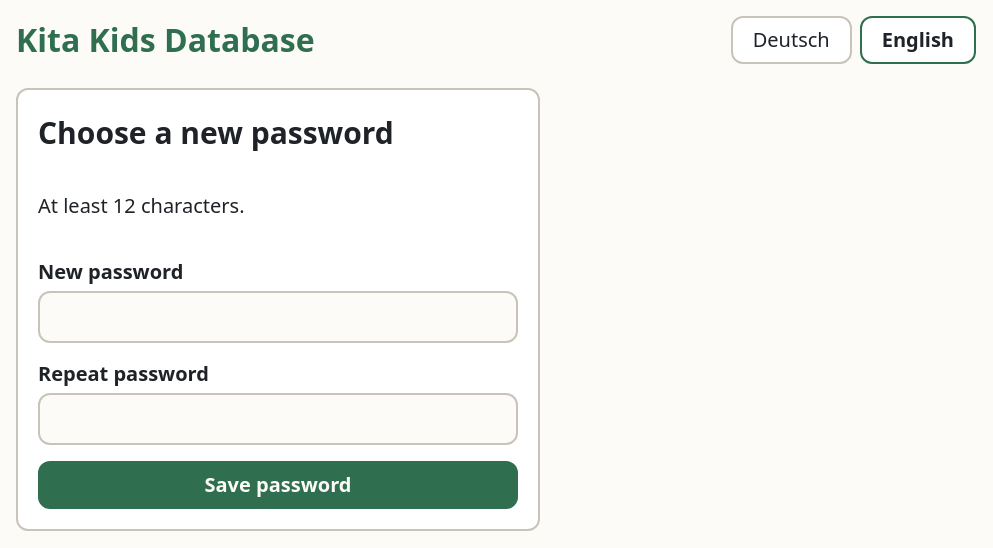
Test: forgotten password › saves the new password with the token from the link, without a login
This screenshot has width=993, height=548.
Type "a brand new password" into the password field labelled "New password" at (278, 317), box [38,291,518,343]
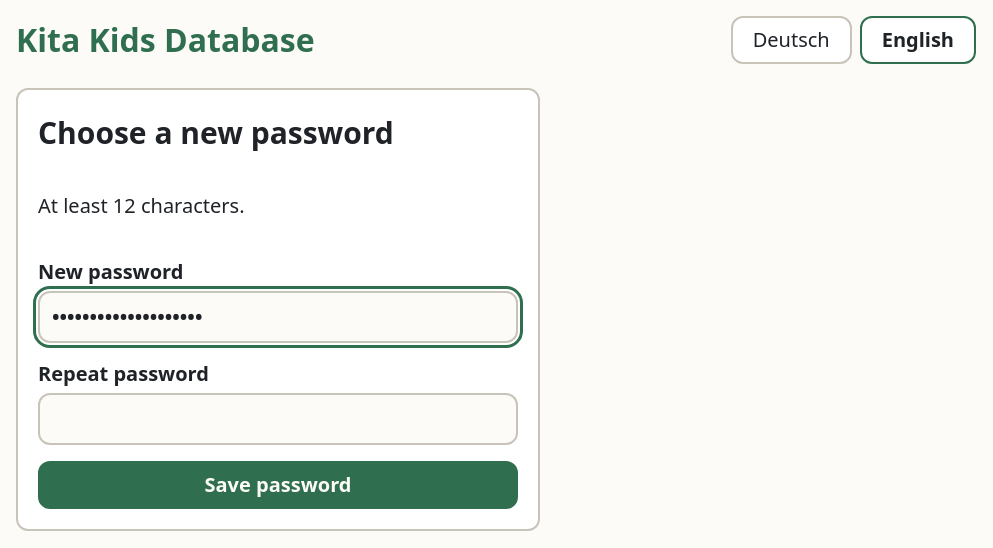
Type "a brand new password" into the password field labelled "Repeat password" at (278, 419), box [38,393,518,445]
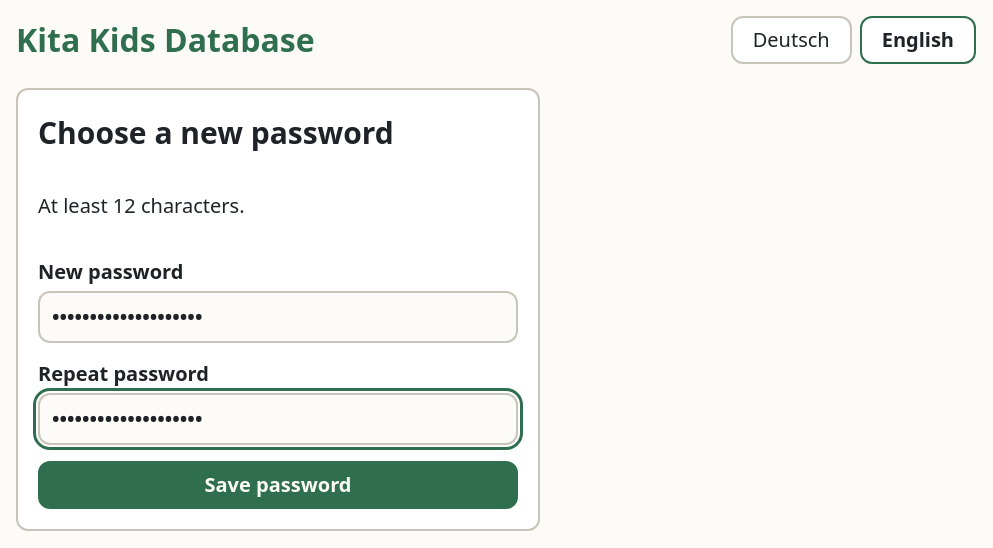
Click the button "Save password" at (278, 485), box [38,461,518,509]
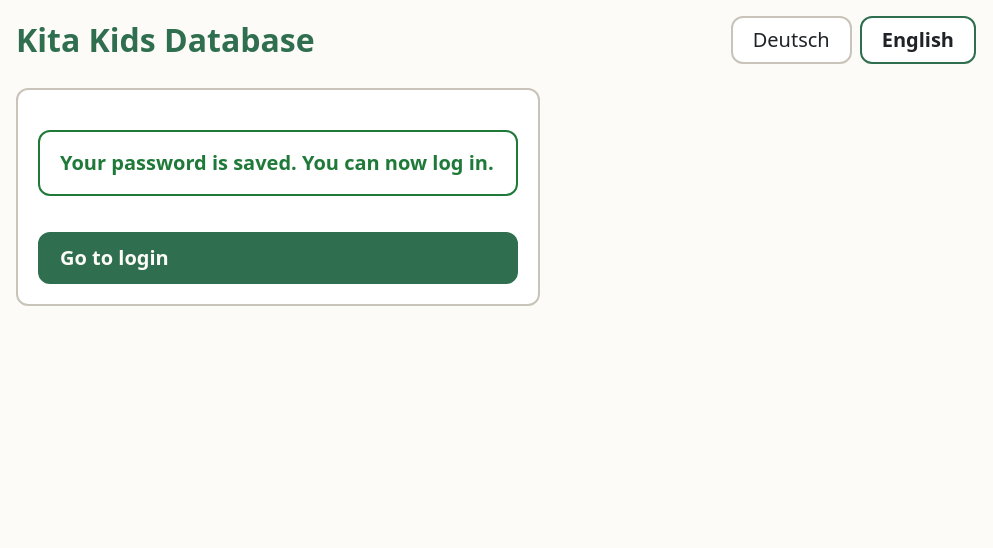
Check: the text "Your password is saved. You can now log in." is shown, box [38,130,518,196]
